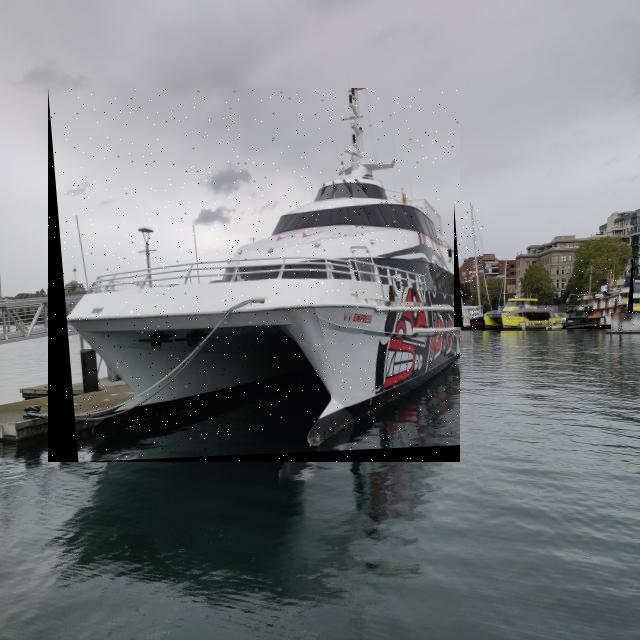boat: (48, 88, 460, 462), (566, 259, 633, 329), (454, 206, 483, 330), (482, 298, 562, 331), (611, 313, 640, 330)
skiff: (546, 323, 563, 330)
